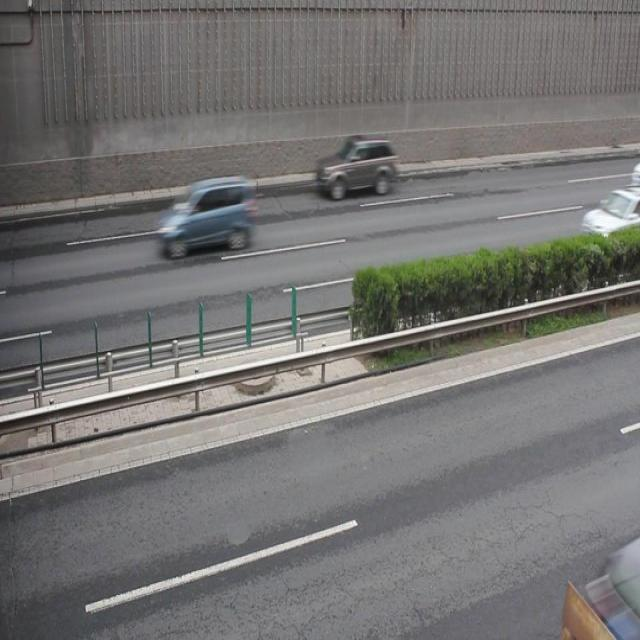car: (156, 171, 255, 257), (316, 133, 397, 199), (579, 188, 640, 252)
